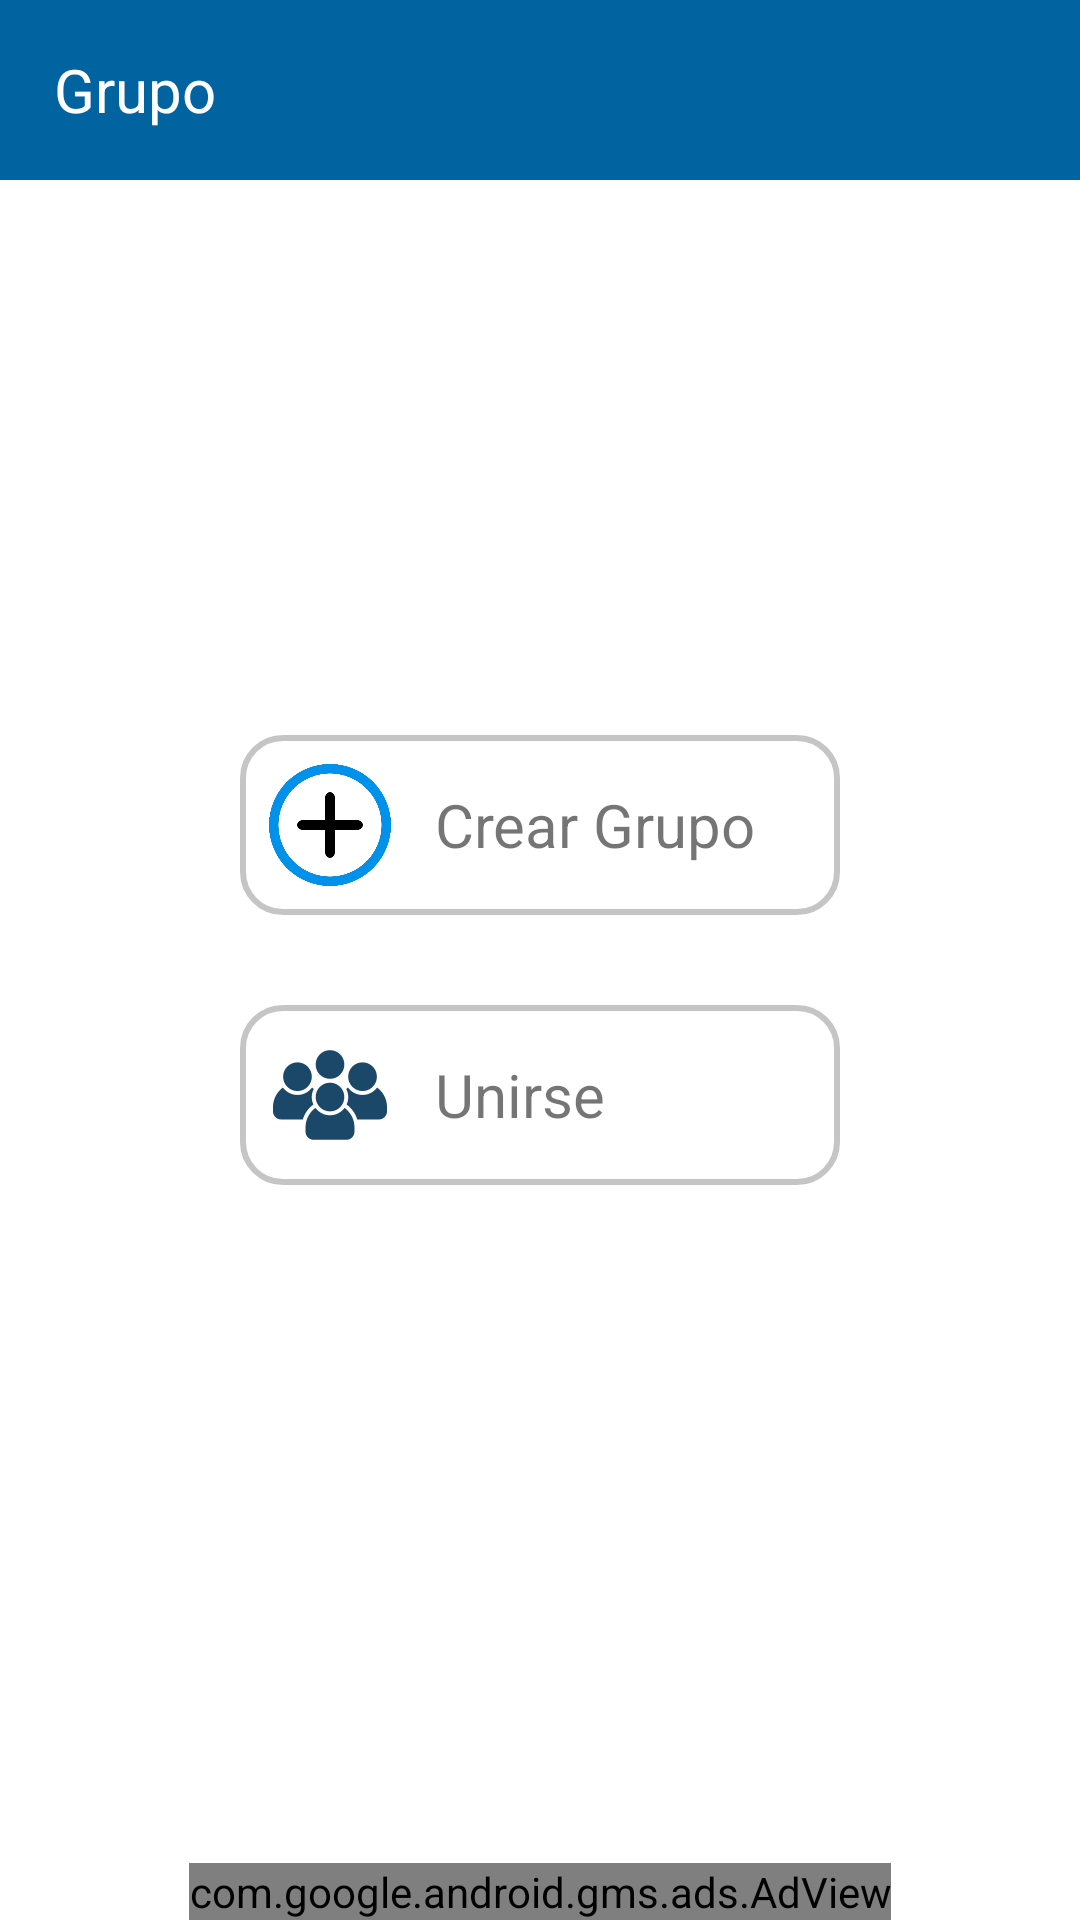

Named icons in this screenshot (1080x1920) and their centers, [x,y]:
grupo: [330,1095]
plus: [330,825]
